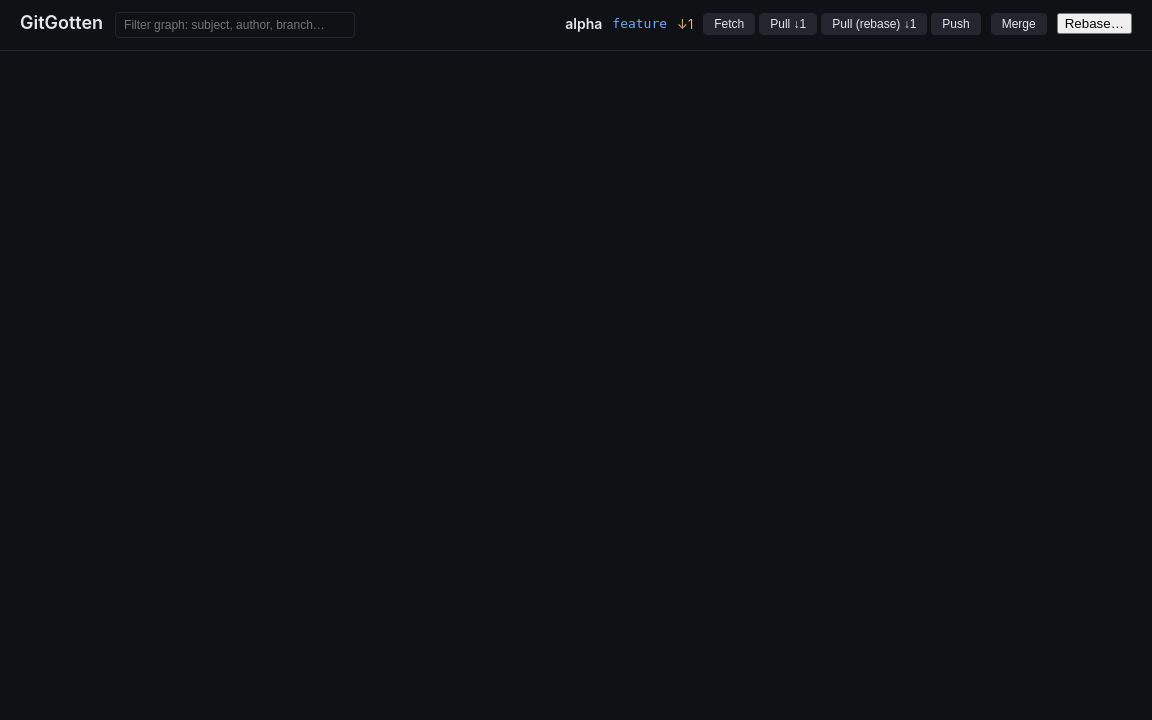
an empty range cannot be previewed
This screenshot has width=1152, height=720.
Step 1. Click the button "Rebase…" → click(1094, 24), box [1057,13,1132,34]
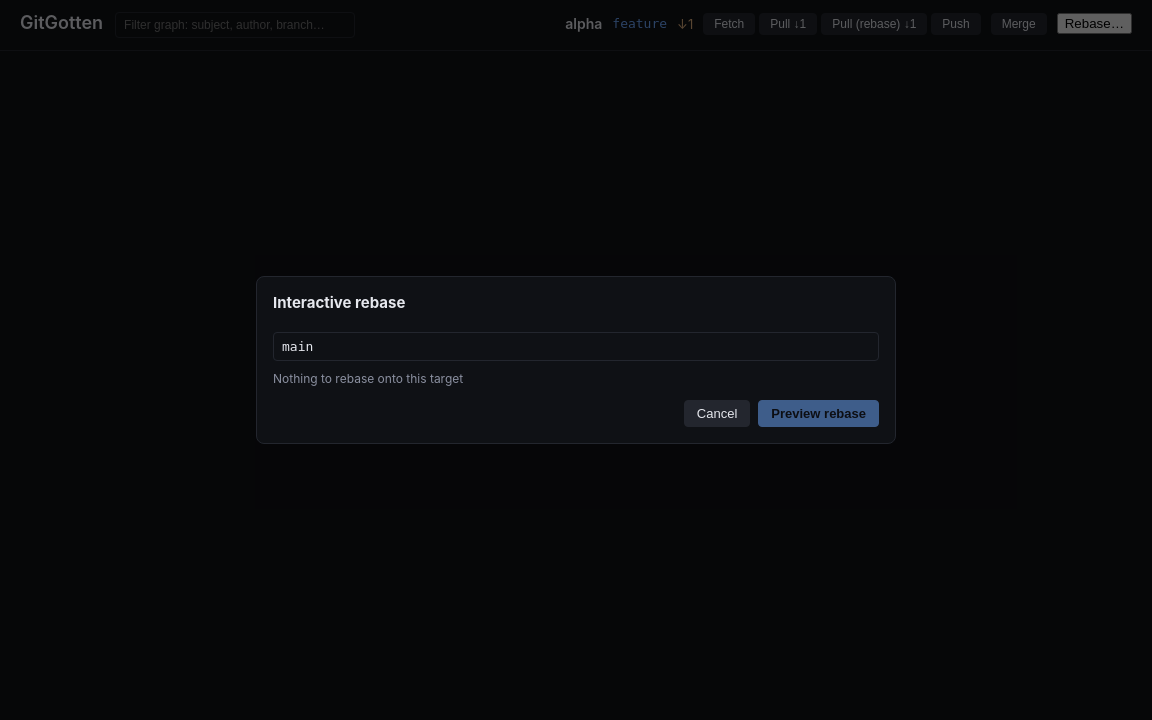
Now the dialog "rebase" shows "Nothing to rebase onto this target", box [273,371,463,386]
Now the button "Preview rebase" is disabled, box [758,400,879,427]
